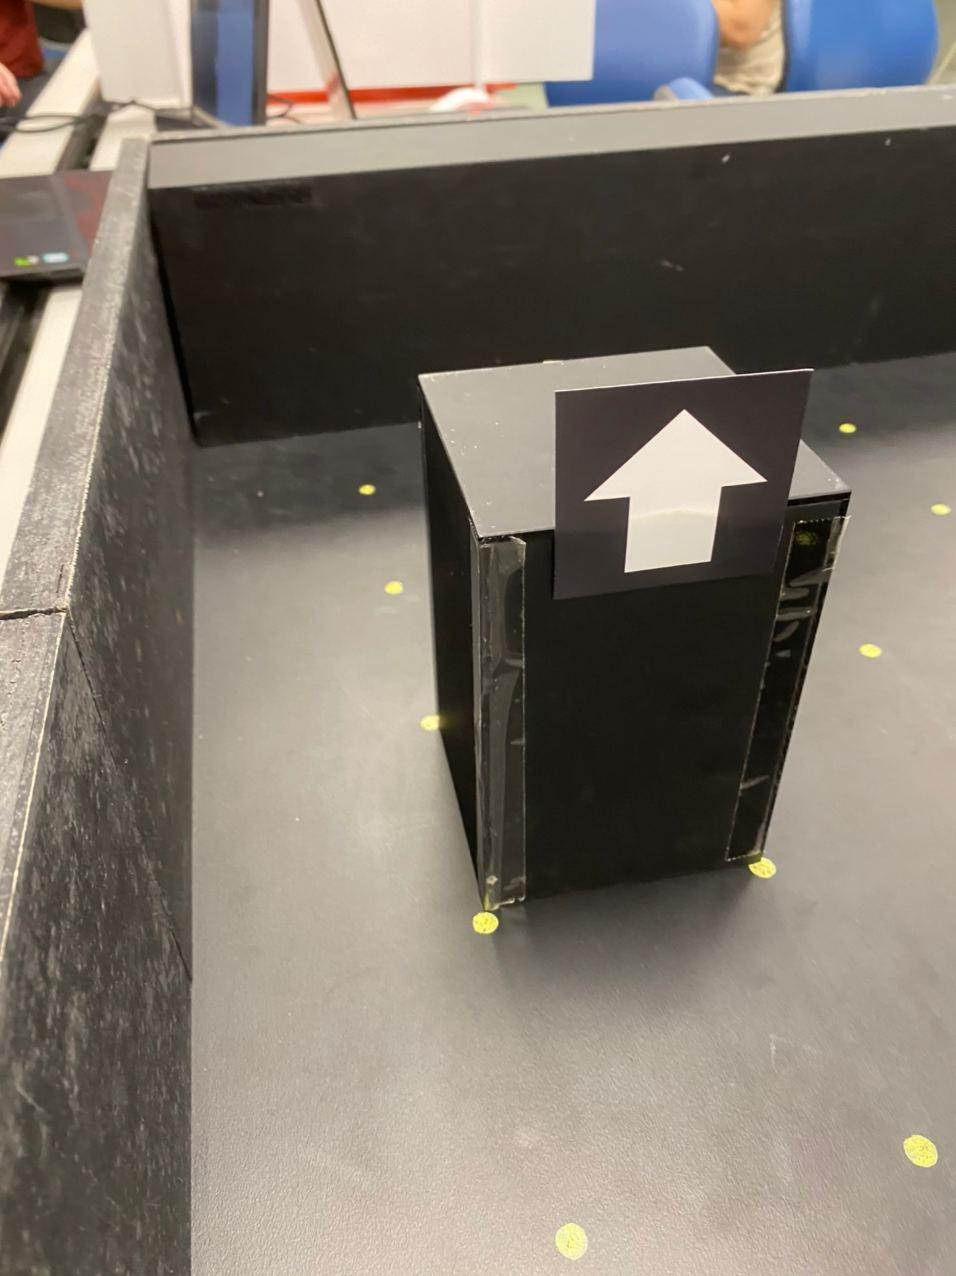up: (578, 403, 769, 574)
